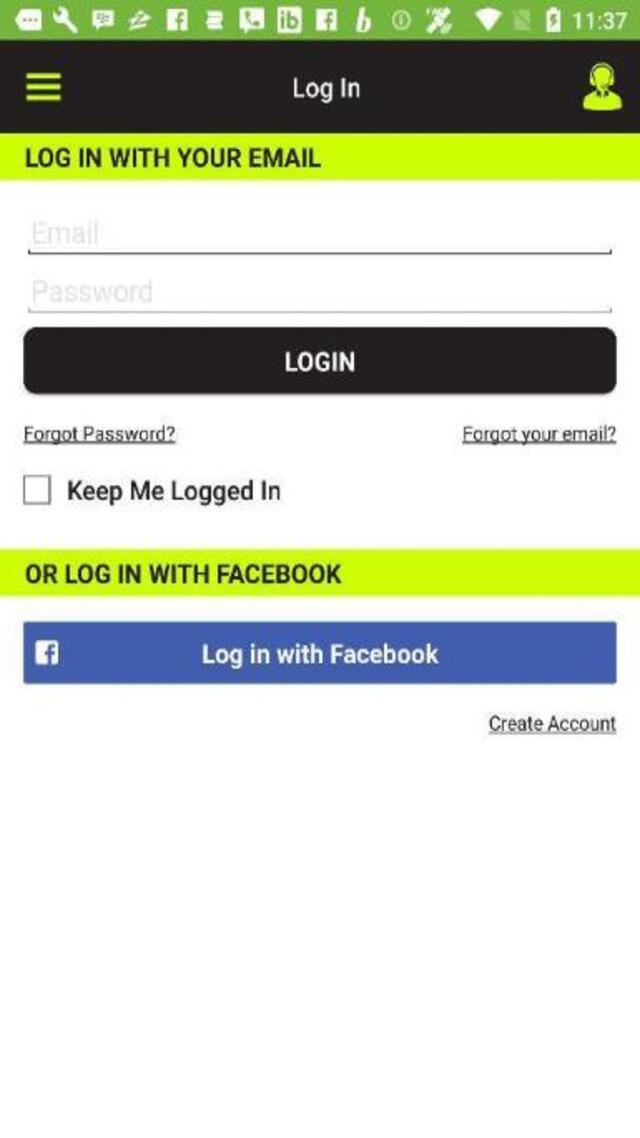CheckedTextView: (23, 473, 280, 505)
Icon: (582, 62, 622, 112), (24, 73, 62, 101), (36, 639, 60, 663)
Text: (24, 144, 322, 169), (196, 638, 444, 667), (25, 562, 344, 583), (69, 477, 280, 505), (461, 424, 616, 445), (23, 424, 176, 445), (32, 278, 152, 302), (488, 714, 616, 734), (280, 349, 362, 375), (294, 76, 360, 104), (32, 220, 98, 246)
TextButton: (22, 327, 616, 395), (22, 622, 616, 684)
